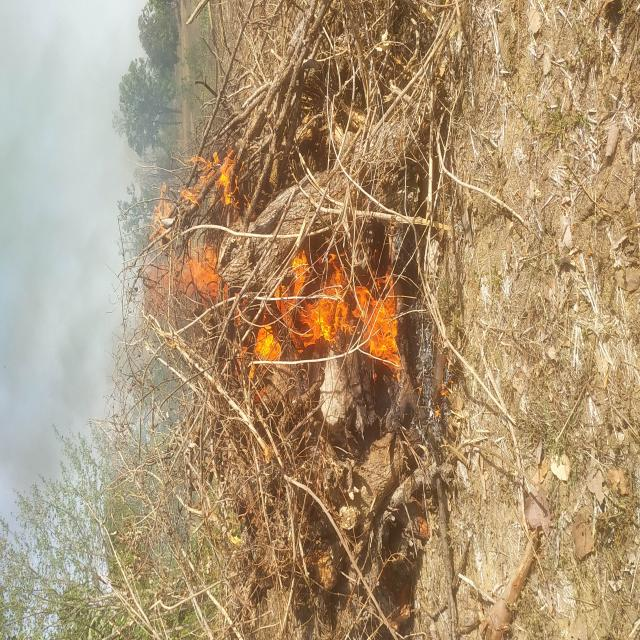Fire: (156, 431, 227, 640), (189, 260, 252, 402), (242, 345, 292, 430)
